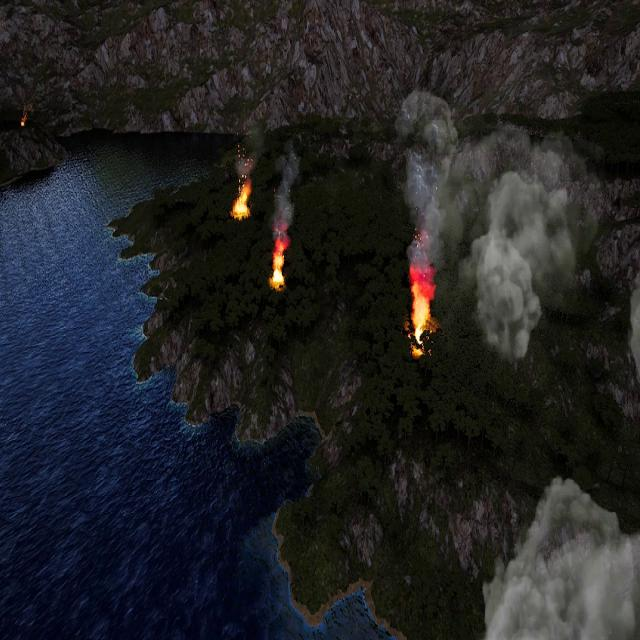fire: (408, 268, 435, 338), (270, 240, 288, 289), (232, 184, 252, 220), (20, 106, 29, 127)
smoke: (402, 78, 606, 366), (472, 475, 639, 639), (271, 140, 298, 242), (233, 121, 267, 180)
